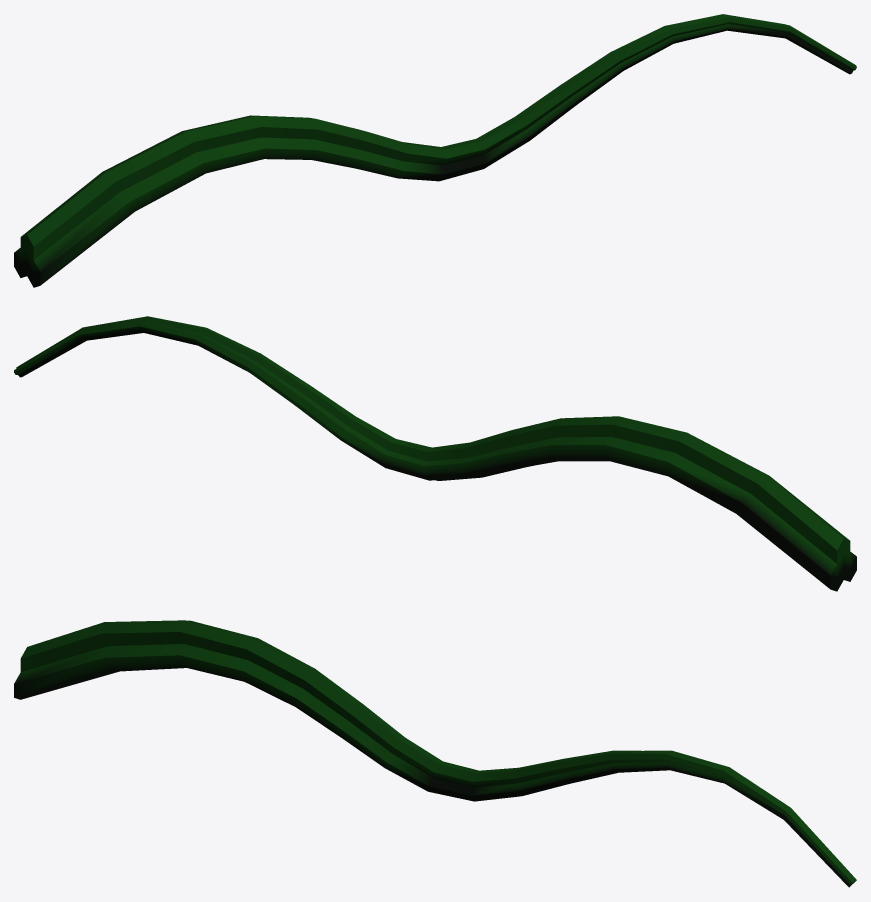
File: vine_front.fbx
The picture shows the model from 3 angles, top to bottom: view 1: azimuth 30°, elevation 25°; view 2: azimuth 150°, elevation 25°; view 3: azimuth 330°, elevation 25°; orthographic projection.
Visible parts, largest first — view 1: pCylinder5; view 2: pCylinder5; view 3: pCylinder5.
Part boxes in pixels (bbox=[...]): pCylinder5: bbox=[14, 14, 856, 287]; pCylinder5: bbox=[14, 316, 856, 591]; pCylinder5: bbox=[14, 620, 856, 887].
Bounding box in the file's own units: 201 × 26.51 × 11.07.
